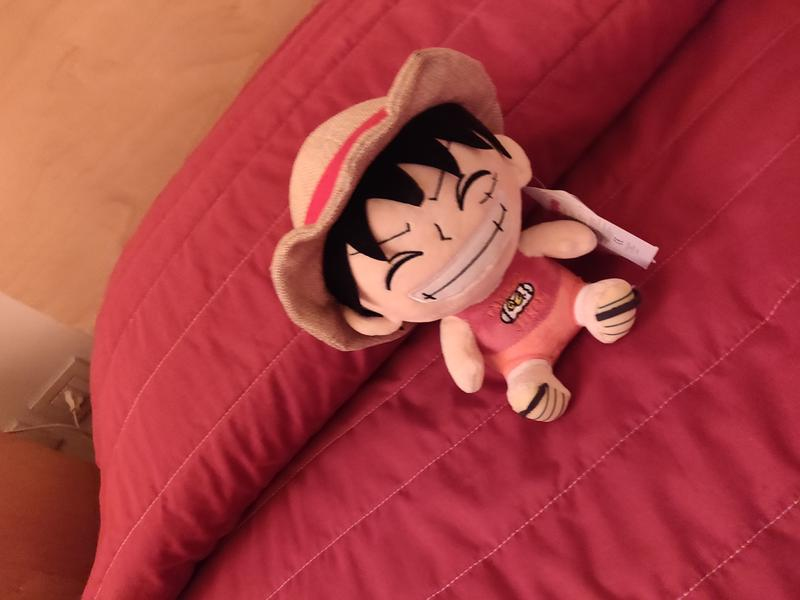rufy: (272, 49, 655, 428)
